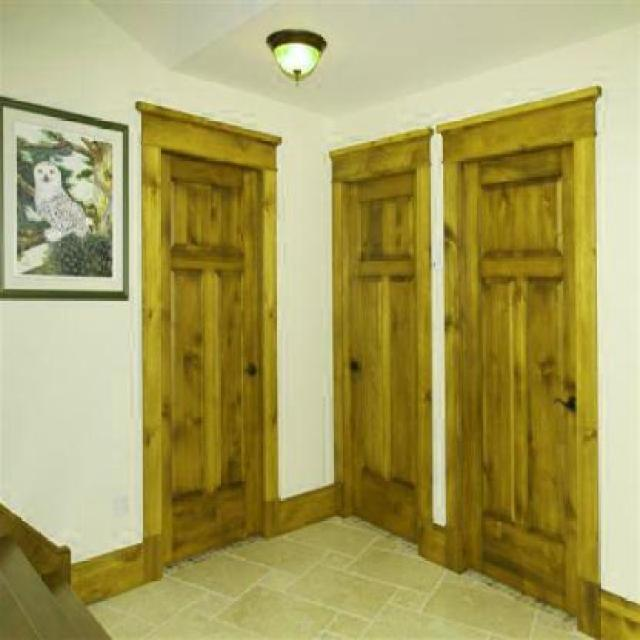door_local: (442, 88, 601, 632), (131, 95, 277, 585), (325, 123, 434, 557)
